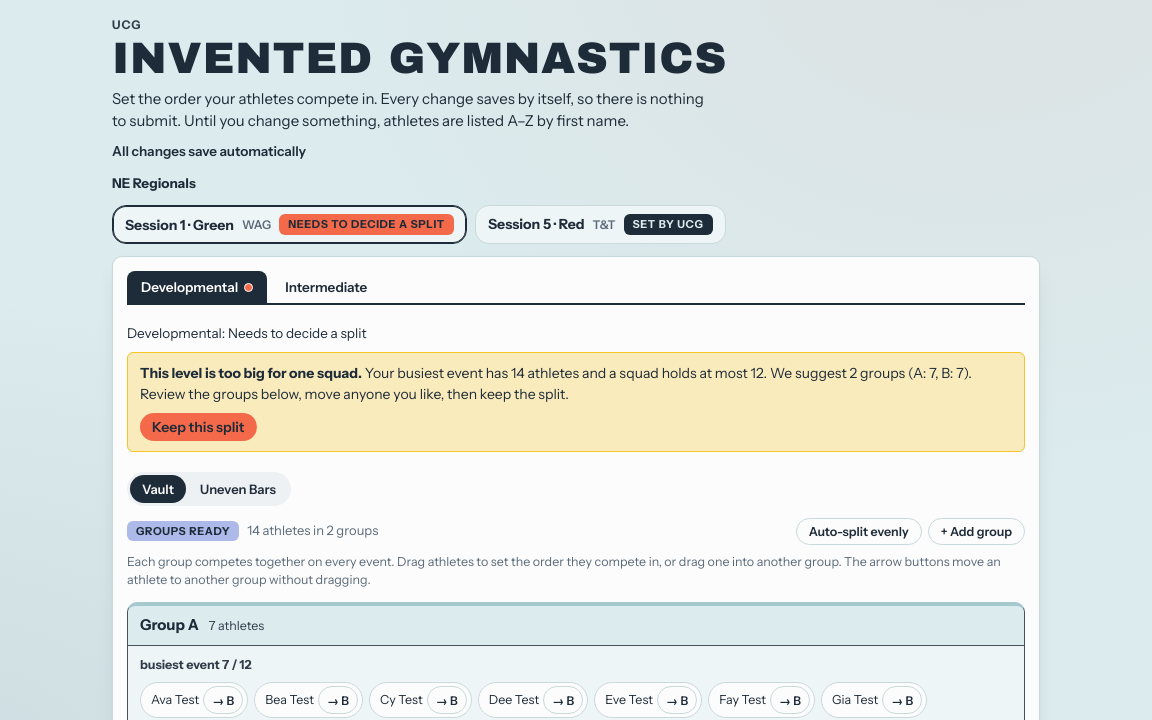
Test: club page › moving an athlete between groups also decides the split
Expected: the element with test id "club-split" is shown, [127, 352, 1025, 452]
Click the button named "Move Ava Test to Group B". click: (223,700)
box: [203, 686, 243, 714]
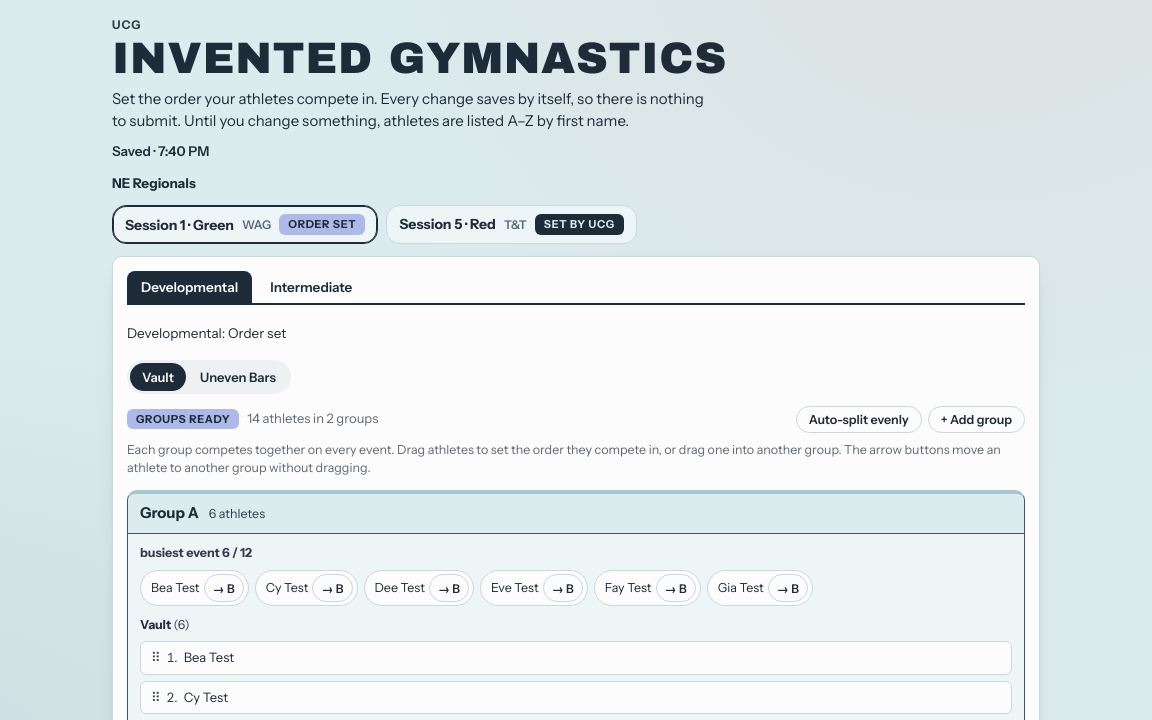
Expected: the element with test id "club-split" is gone
